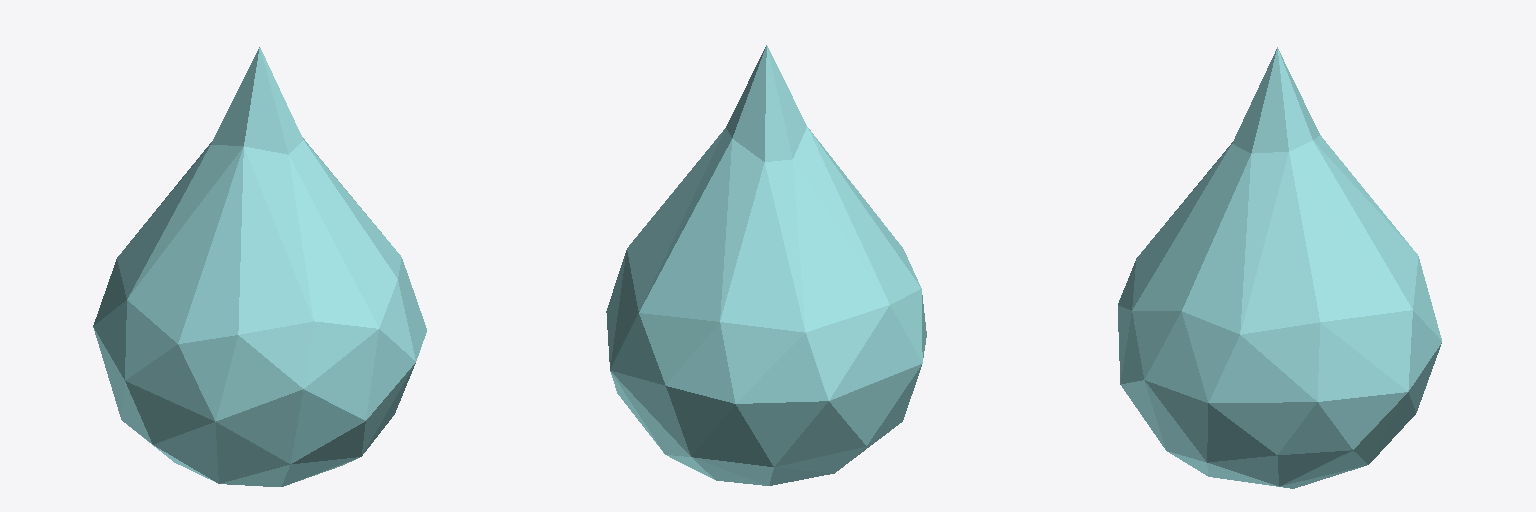
3 views of the same model, side by side, from view 1: azimuth 30°, elevation 25°; view 2: azimuth 150°, elevation 25°; view 3: azimuth 270°, elevation 25° (orthographic).
Parts seen in each view (by area): view 1: Standard_Drop; view 2: Standard_Drop; view 3: Standard_Drop.
Boxes of the visible parts, x1=… form: Standard_Drop: x1=93, y1=47, x2=426, y2=486; Standard_Drop: x1=606, y1=45, x2=926, y2=485; Standard_Drop: x1=1118, y1=47, x2=1441, y2=488.
Size of the model in its own units: 59.64 by 83.78 by 58.71.
1 materials, 1 textured.